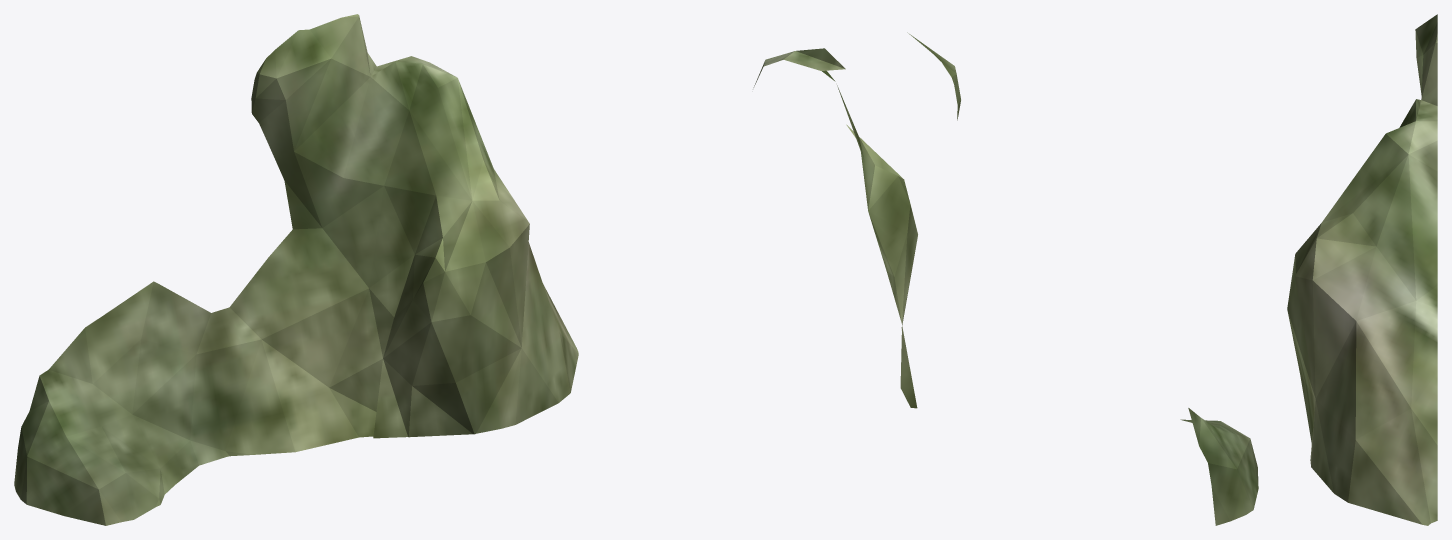
3 views of the same model, side by side, from view 1: azimuth 30°, elevation 25°; view 2: azimuth 150°, elevation 25°; view 3: azimuth 270°, elevation 25° (orthographic). The views are drawn at different scales.
Size of the model in its own units: 1.67 by 1.08 by 0.3861.
1 material, 1 textured.
